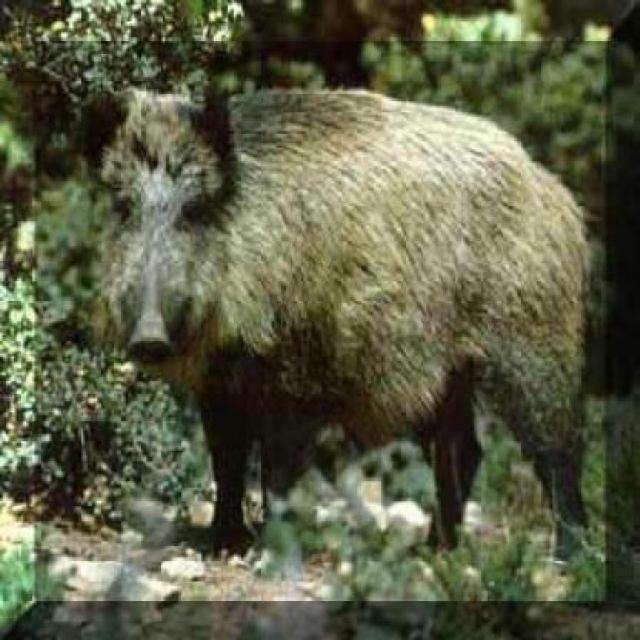pig: (49, 88, 638, 626)
